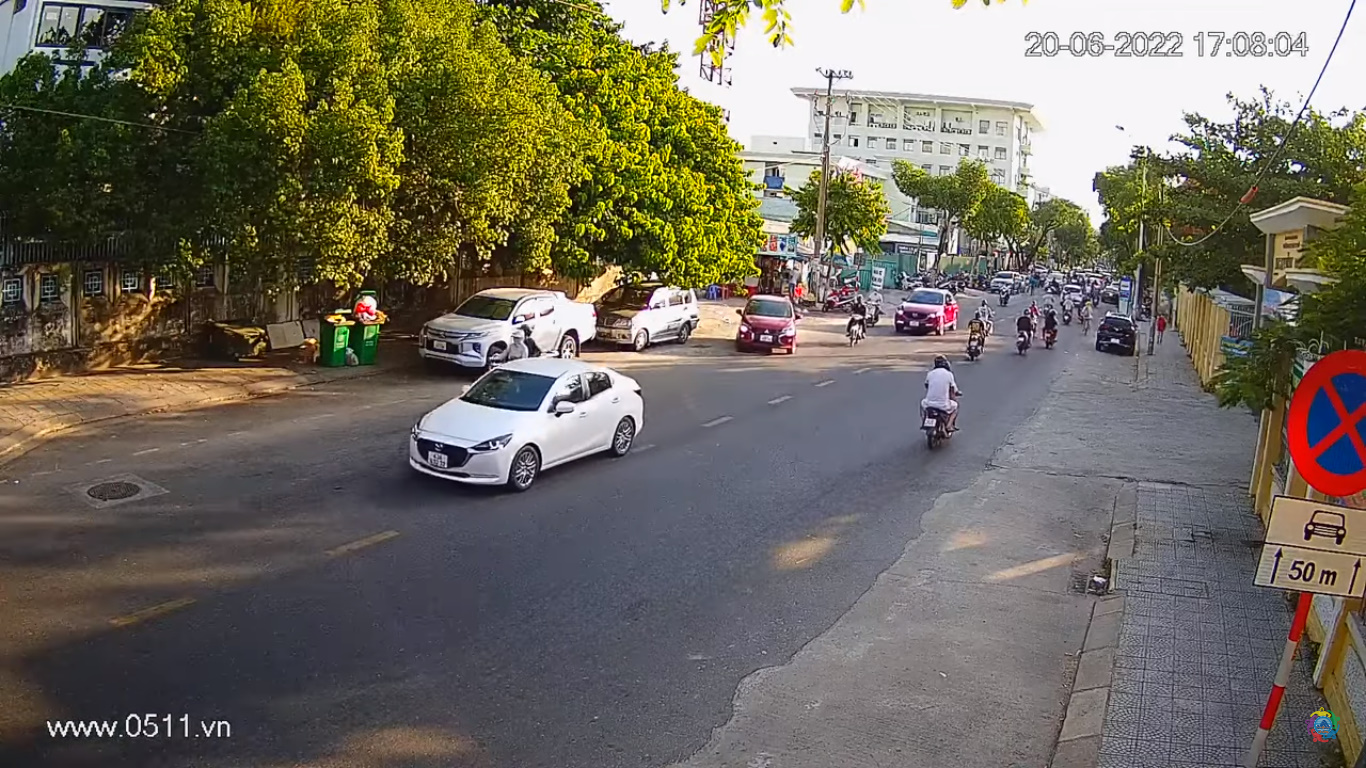car: (407, 355, 647, 497), (735, 287, 800, 354), (892, 284, 955, 338)
